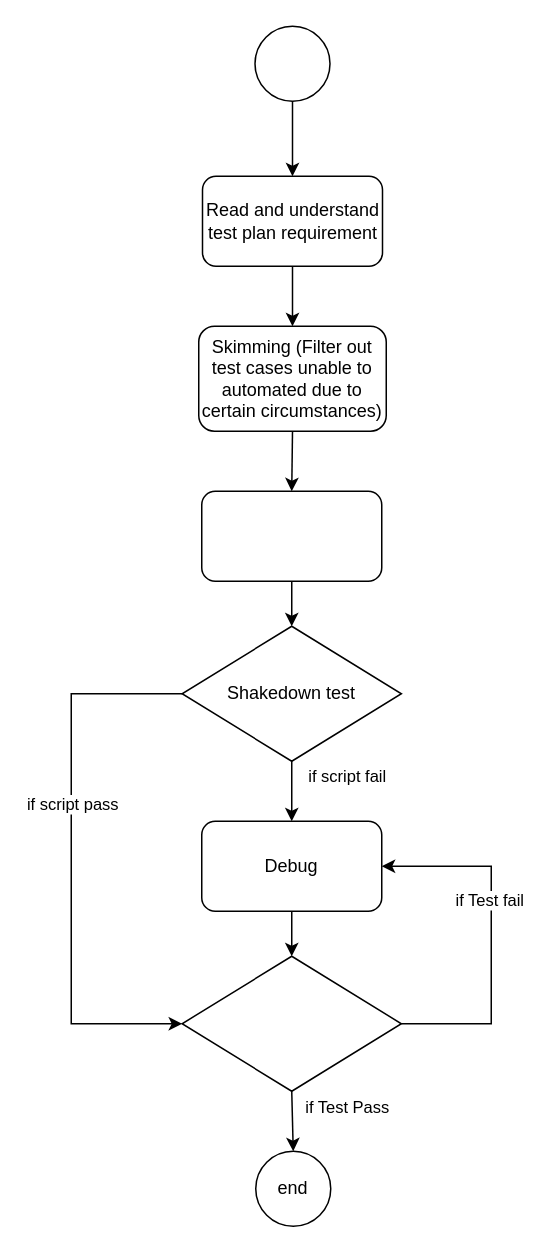
Some shapes in this 549 by 1253 pixel diagram are drawn without their labels. The centre of each missing label's shape, as x and y in pixels:
"Develop Test Script" belongs at point 291,535.
"start" belongs at point 292,63.
"Test Validation" belongs at point 291,1023.
